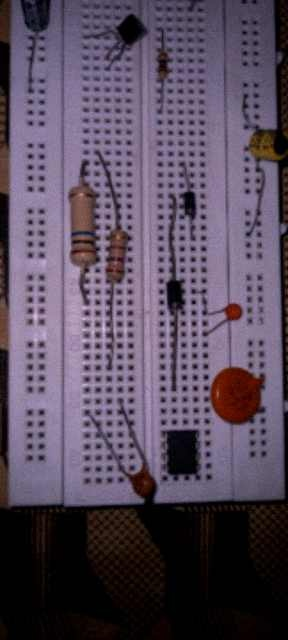capacitor: (210, 367, 264, 424), (249, 128, 288, 162), (21, 2, 51, 32), (131, 471, 154, 497), (223, 302, 243, 321)
resistor: (69, 186, 98, 268), (107, 227, 128, 281), (157, 52, 168, 79)
